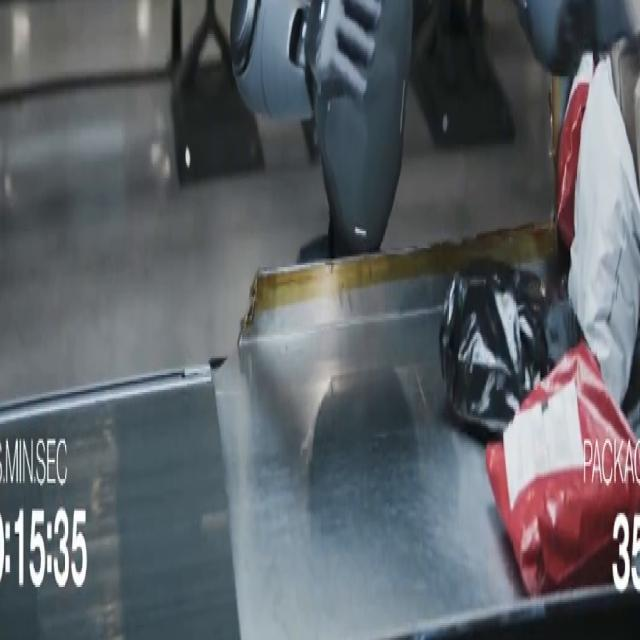package: (486, 342, 639, 595), (568, 60, 639, 402), (440, 261, 548, 436), (557, 53, 594, 247), (544, 299, 583, 368)
